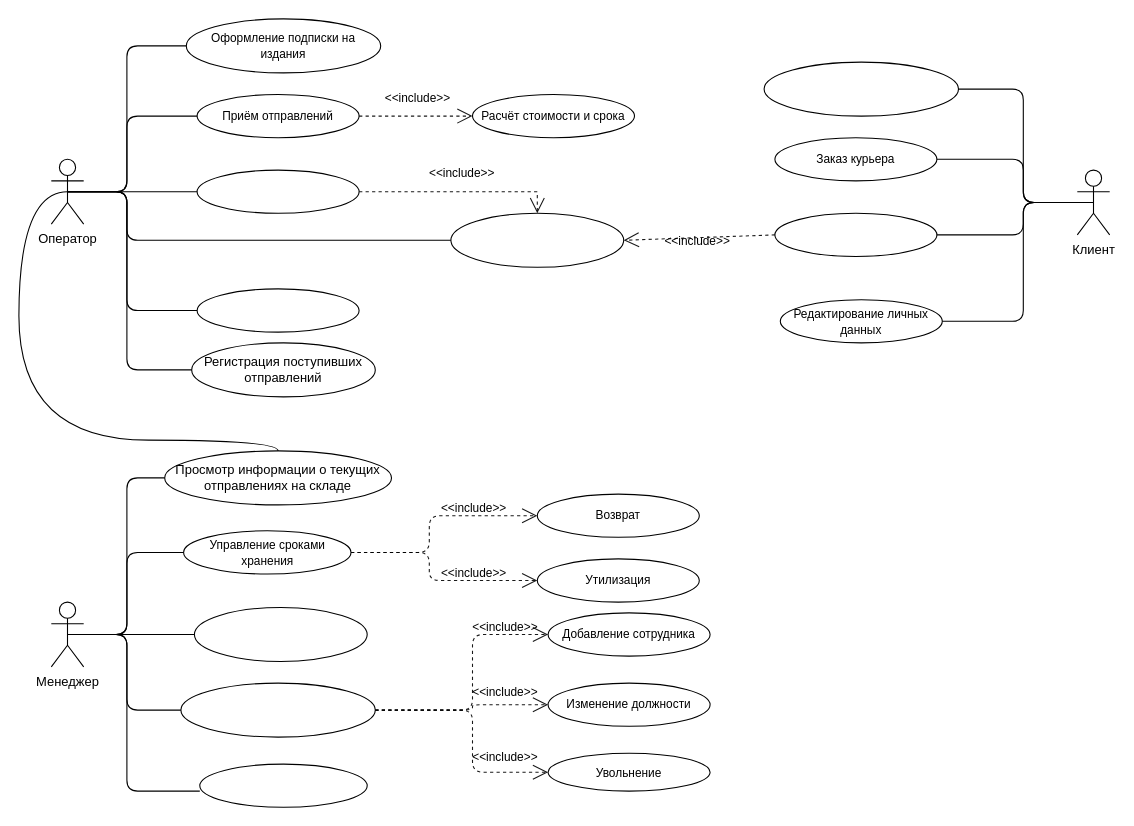
Image size: 1134x826. Some labels were removed from this diagram. The box of each missing label's shape, as (x1, y1, x2, y2) in pixels:
Анализ количества отправлений за период: (199, 763, 367, 807)
Анализ популярности отправлений: (193, 606, 367, 662)
Аннулирование отправления: (196, 288, 359, 332)
Выдача информации о статусе: (450, 212, 624, 267)
Выдача отправления: (196, 169, 359, 213)
Просмотр информации об отправлениях: (774, 212, 937, 256)
Регистрация и авторизация: (763, 61, 959, 116)
Управление сотрудниками: (180, 682, 375, 737)
